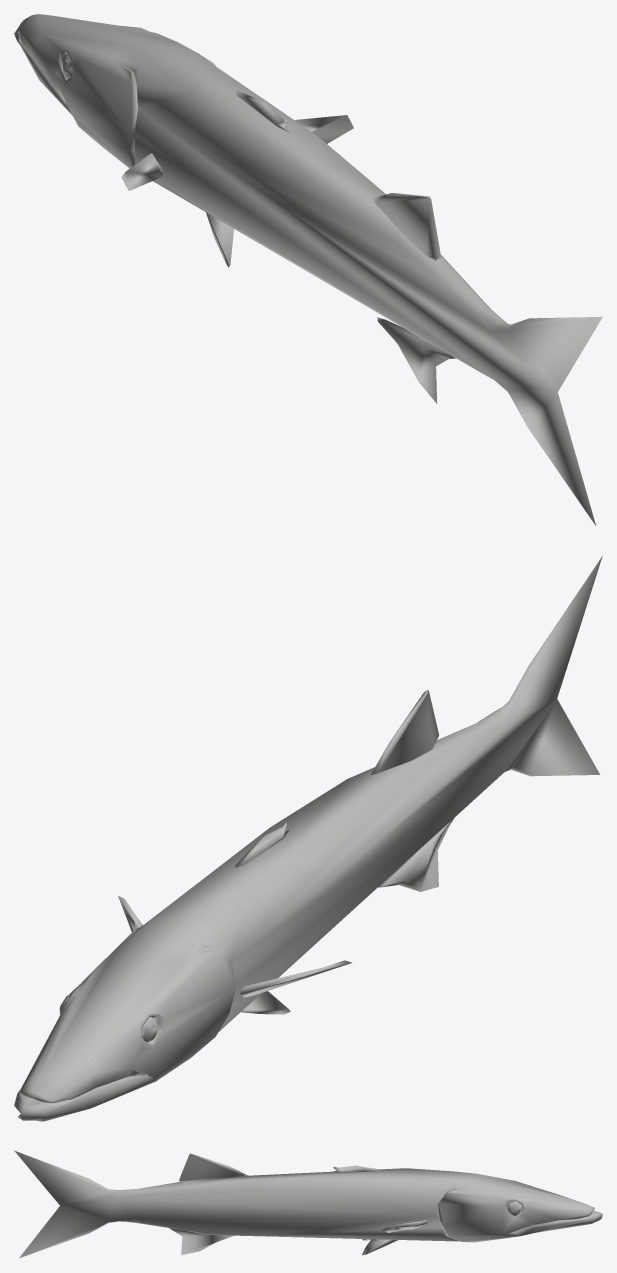
The model's file is barracuda-ver.glb.
3 views of the same model, one above another, from view 1: azimuth 30°, elevation 25°; view 2: azimuth 150°, elevation 25°; view 3: azimuth 270°, elevation 25° (orthographic). The views are drawn at different scales.
Visible parts, largest first — view 1: tripo_node_d10eb23d-71da-4d0c-8b6c-ada3a9cd203a; view 2: tripo_node_d10eb23d-71da-4d0c-8b6c-ada3a9cd203a; view 3: tripo_node_d10eb23d-71da-4d0c-8b6c-ada3a9cd203a.
Boxes of the visible parts, bbox=[...] form: tripo_node_d10eb23d-71da-4d0c-8b6c-ada3a9cd203a: bbox=[14, 14, 602, 525]; tripo_node_d10eb23d-71da-4d0c-8b6c-ada3a9cd203a: bbox=[14, 556, 602, 1121]; tripo_node_d10eb23d-71da-4d0c-8b6c-ada3a9cd203a: bbox=[14, 1150, 602, 1258].
Size of the model in its own units: 0.5476 by 0.4952 by 2.43.
1 material, 1 textured.
